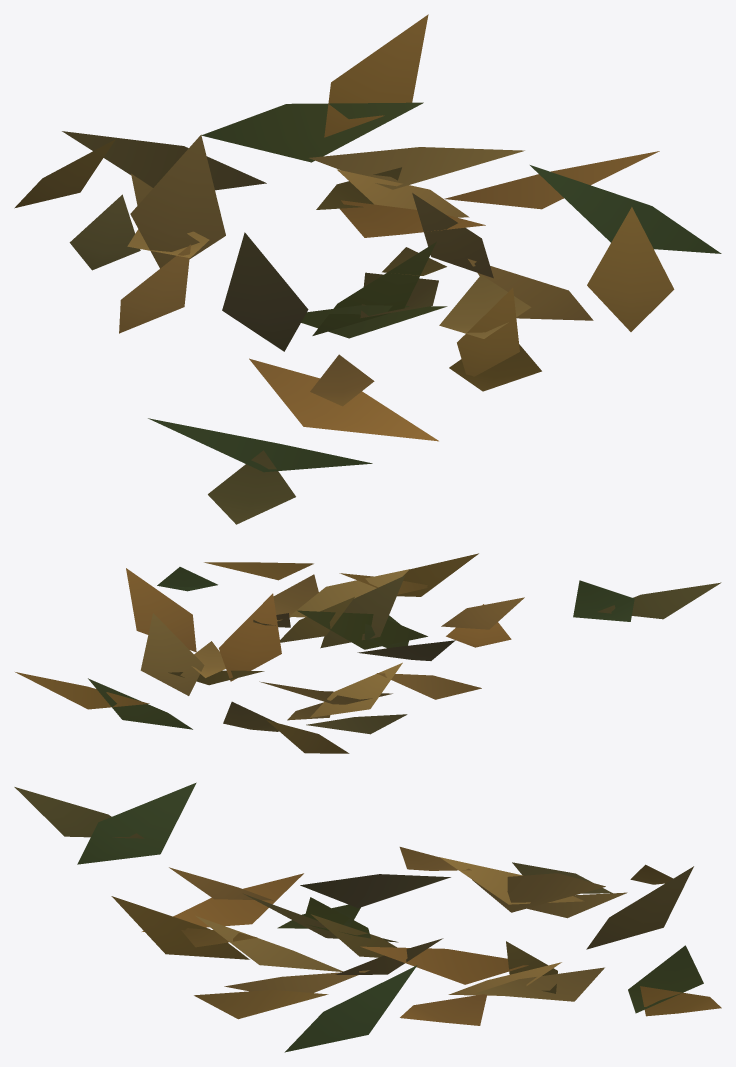
Rendered from litter-tropical-a.lod1.glb.
The picture shows the model from 3 angles, top to bottom: view 1: azimuth 30°, elevation 25°; view 2: azimuth 150°, elevation 25°; view 3: azimuth 270°, elevation 25°; orthographic projection. The views are drawn at different scales.
Size of the model in its own units: 1.68 by 0.2227 by 1.93.
